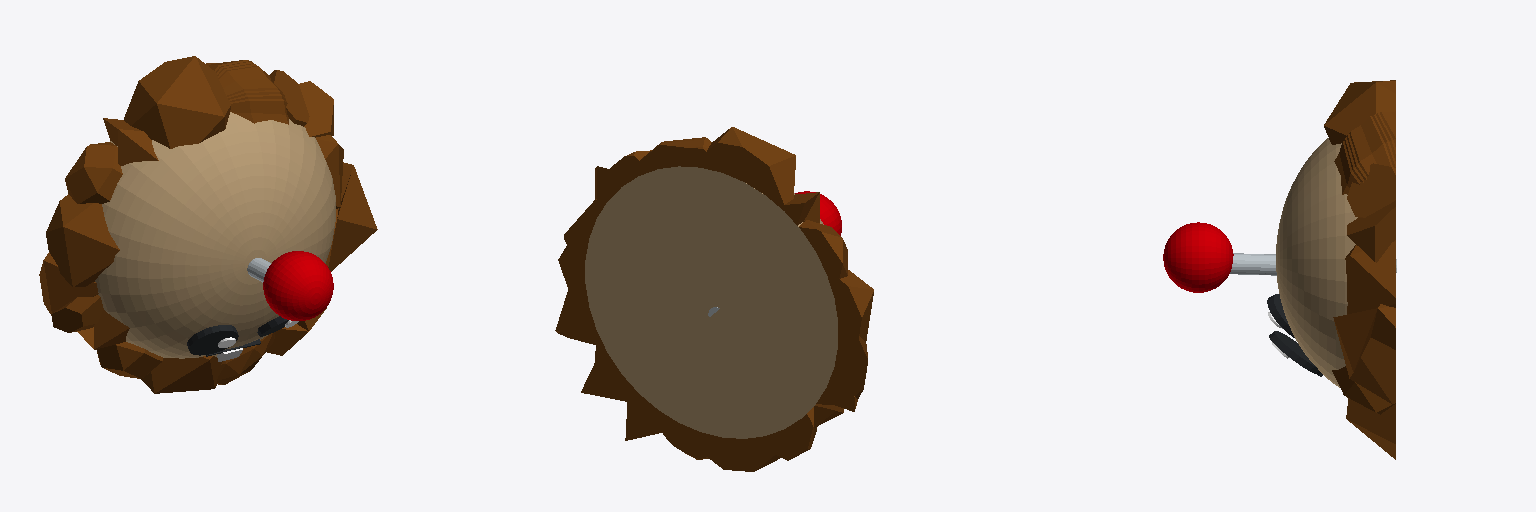
File: tinker.obj
The picture shows the model from 3 angles: view 1: azimuth 30°, elevation 25°; view 2: azimuth 150°, elevation 25°; view 3: azimuth 270°, elevation 25°; orthographic projection.
Visible parts, largest first — view 1: obj_0; view 2: obj_0; view 3: obj_0.
Boxes of the visible parts, x1=… form: obj_0: x1=39, y1=56, x2=377, y2=393; obj_0: x1=555, y1=127, x2=873, y2=471; obj_0: x1=1163, y1=80, x2=1396, y2=459.
Bounding box in the file's own units: 104 × 105 × 66.14.